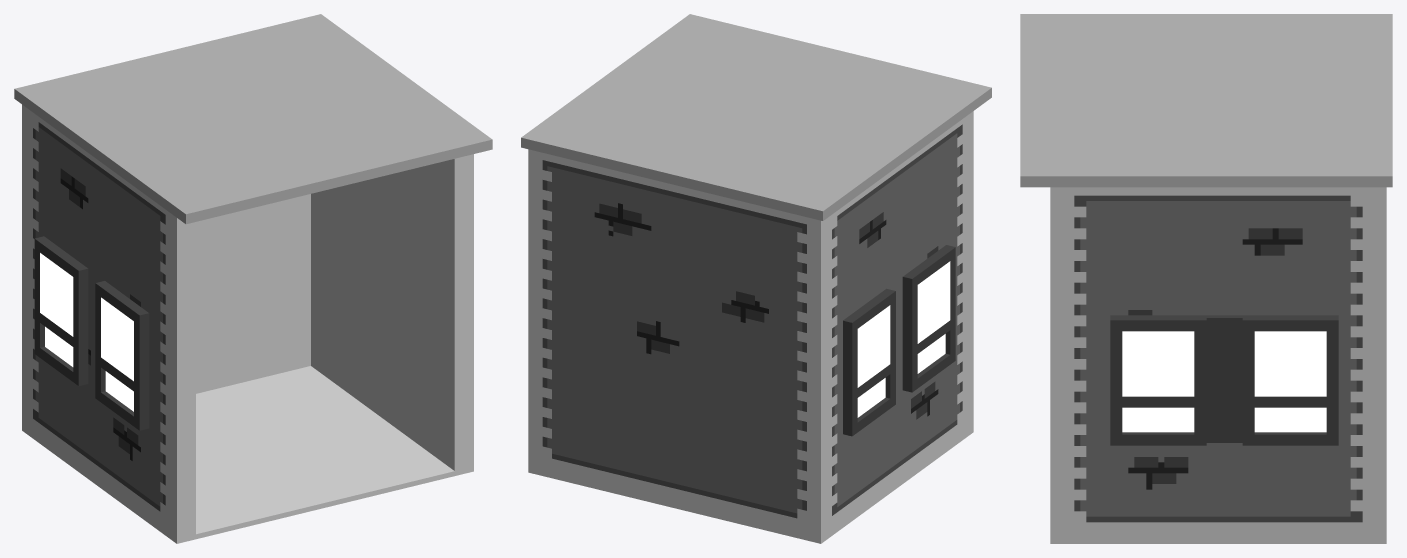
File: typeEleven.glb
3 views of the same model, side by side, from view 1: azimuth 30°, elevation 25°; view 2: azimuth 150°, elevation 25°; view 3: azimuth 270°, elevation 25° (orthographic). The views are drawn at different scales.
Visible parts, largest first — view 1: ObjObject; view 2: ObjObject; view 3: ObjObject.
Part boxes in pixels (bbox=[...]): ObjObject: bbox=[14, 14, 492, 543]; ObjObject: bbox=[521, 14, 991, 543]; ObjObject: bbox=[1020, 14, 1392, 543].
Bounding box in the file's own units: 6.6 × 6.8 × 6.2.
2 materials, 1 textured.
